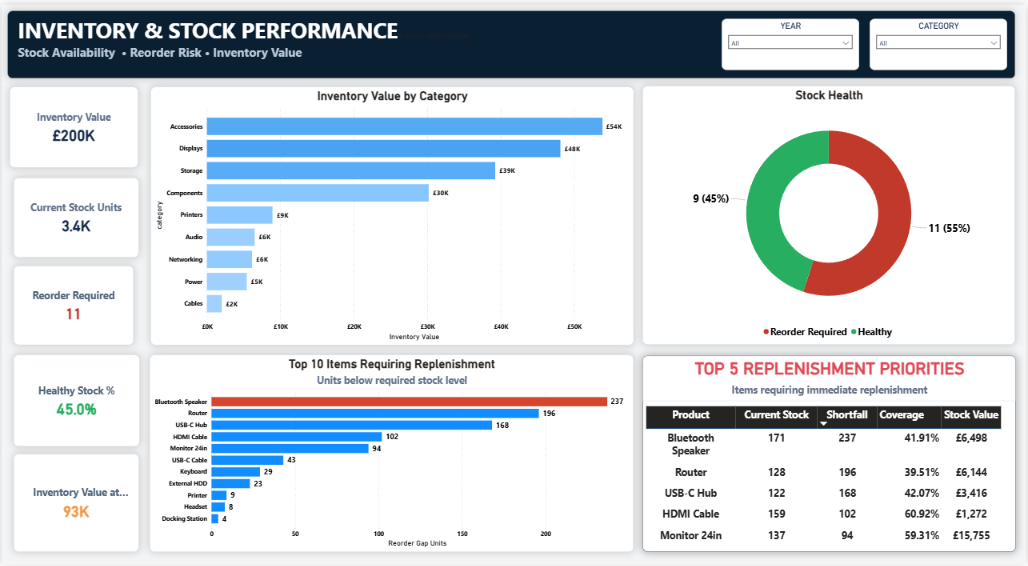

This screenshot's page, from the dashboard's own definition file:
{"tool":"powerbi","page":{"name":"Inventory & Stock Performance","canvas":[2050,1120],"ordinal":2},"visuals":[{"type":"textbox","box":[12.5,12.5,2015,135],"z":0},{"type":"slicer","title":"YEAR","fields":{"Values":["core purchases.po_date.Variation.Date Hierarchy.Year"]},"box":[1440,27.5,275,102.5],"z":1000},{"type":"cardVisual","fields":{"Data":["core inventory.Current Stock Units"]},"box":[23.8,345.2,250,159.5],"z":2000},{"type":"cardVisual","fields":{"Data":["core inventory.Products Requiring Reorder"]},"box":[24,522,240,158],"z":3000},{"type":"cardVisual","fields":{"Data":["core inventory.Stock Value at Risk"]},"box":[24,898,250,196],"z":4000},{"type":"cardVisual","fields":{"Data":["core inventory.Inventory Value"]},"box":[16.7,164.3,257.1,161.9],"z":5000},{"type":"cardVisual","fields":{"Data":["core inventory.Healthy Stock %"]},"box":[23.8,700,252.4,183.3],"z":6000},{"type":"clusteredBarChart","title":"Inventory Value by Category","fields":{"Category":["core products.category"],"Y":["core inventory.Inventory Value"]},"box":[297.6,164.3,966.7,516.7],"z":7000},{"type":"clusteredBarChart","title":"Top 10 Items Requiring Replenishment","fields":{"Category":["core products.product_name"],"Y":["core inventory.Reorder Gap Units"]},"box":[296,700,968,394],"z":8000},{"type":"tableEx","title":"TOP 5 REPLENISHMENT PRIORITIES","fields":{"Values":["core products.product_name","core inventory.Current Stock Units","core inventory.Stock Shortfall","core inventory.Stock Coverage %","core inventory.Inventory Value"]},"box":[1282,702,746,392],"z":9000},{"type":"slicer","title":"CATEGORY","fields":{"Values":["core products.category"]},"box":[1735,27.5,275,102.5],"z":10000},{"type":"donutChart","title":"Stock Health","fields":{"Category":["core inventory.stock_status"],"Y":["CountNonNull(core inventory.product_id)"]},"box":[1282.5,162.5,745,517.5],"z":11000}]}

Visuals, with their boxes in screenshot pixels (x1, y1, x2, y2), scaled from the page's 2050x1120 canvas onto the 1028x566 screenshot:
textbox: [left=6, top=6, right=1017, bottom=75]
"YEAR" slicer: [left=722, top=14, right=860, bottom=66]
cardVisual - core inventory.Current Stock Units: [left=12, top=174, right=137, bottom=255]
cardVisual - core inventory.Products Requiring Reorder: [left=12, top=264, right=132, bottom=344]
cardVisual - core inventory.Stock Value at Risk: [left=12, top=454, right=137, bottom=553]
cardVisual - core inventory.Inventory Value: [left=8, top=83, right=137, bottom=165]
cardVisual - core inventory.Healthy Stock %: [left=12, top=354, right=139, bottom=446]
"Inventory Value by Category" clusteredBarChart: [left=149, top=83, right=634, bottom=344]
"Top 10 Items Requiring Replenishment" clusteredBarChart: [left=148, top=354, right=634, bottom=553]
"TOP 5 REPLENISHMENT PRIORITIES" tableEx: [left=643, top=355, right=1017, bottom=553]
"CATEGORY" slicer: [left=870, top=14, right=1008, bottom=66]
"Stock Health" donutChart: [left=643, top=82, right=1017, bottom=344]
